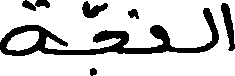ا: (219, 0, 234, 51)
ة: (0, 0, 46, 57)
ج: (90, 28, 127, 74)
ف: (129, 7, 170, 54)
ل: (202, 6, 217, 52)
